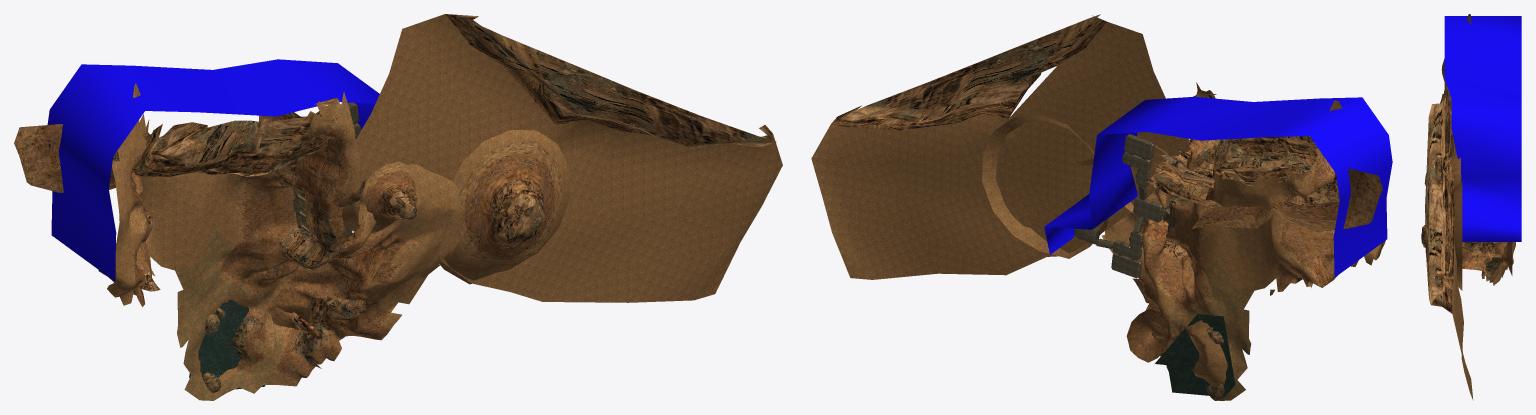
The picture shows the model from 3 angles, left to right: view 1: azimuth 30°, elevation 25°; view 2: azimuth 150°, elevation 25°; view 3: azimuth 270°, elevation 25°; orthographic projection. The views are drawn at different scales.
Visible parts, largest first — view 1: 3DSMesh_3, 3DSMesh_0, 3DSMesh_41, 3DSMesh_2, 3DSMesh_4, 3DSMesh_5, 3DSMesh_7, 3DSMesh_9, 3DSMesh_40, 3DSMesh_8, 3DSMesh_1, 3DSMesh_6; view 2: 3DSMesh_3, 3DSMesh_41, 3DSMesh_0, 3DSMesh_2, 3DSMesh_4, 3DSMesh_5, 3DSMesh_15, 3DSMesh_40, 3DSMesh_7, 3DSMesh_8, 3DSMesh_9, 3DSMesh_12; view 3: 3DSMesh_41, 3DSMesh_0, 3DSMesh_3, 3DSMesh_7, 3DSMesh_4, 3DSMesh_9, 3DSMesh_8, 3DSMesh_2.
Boxes of the visible parts, x1,y1,x2,y2 form: 3DSMesh_3: (107,14,782,386); 3DSMesh_0: (111,14,776,324); 3DSMesh_41: (47,59,379,281); 3DSMesh_2: (14,112,561,386); 3DSMesh_4: (132,65,554,377); 3DSMesh_5: (175,230,283,400); 3DSMesh_7: (98,114,397,339); 3DSMesh_9: (202,192,333,392); 3DSMesh_40: (189,299,265,389); 3DSMesh_8: (136,115,373,344); 3DSMesh_1: (375,167,543,252); 3DSMesh_6: (273,172,332,216); 3DSMesh_3: (811,21,1385,384); 3DSMesh_41: (1044,96,1392,277); 3DSMesh_0: (831,14,1339,309); 3DSMesh_2: (1135,161,1382,370); 3DSMesh_4: (850,124,1334,362); 3DSMesh_5: (1168,259,1253,400); 3DSMesh_15: (1074,136,1163,278); 3DSMesh_40: (1155,314,1235,397); 3DSMesh_7: (1142,139,1337,310); 3DSMesh_8: (1141,140,1318,346); 3DSMesh_9: (1162,197,1224,400); 3DSMesh_12: (1098,134,1169,276); 3DSMesh_41: (1444,16,1521,241); 3DSMesh_0: (1421,89,1496,313); 3DSMesh_3: (1440,14,1515,400); 3DSMesh_7: (1449,102,1491,271); 3DSMesh_4: (1451,153,1512,301); 3DSMesh_9: (1482,242,1513,282); 3DSMesh_8: (1475,242,1509,264); 3DSMesh_2: (1440,88,1506,285).
Size of the model in its own units: 34866 by 17289 by 6875.
